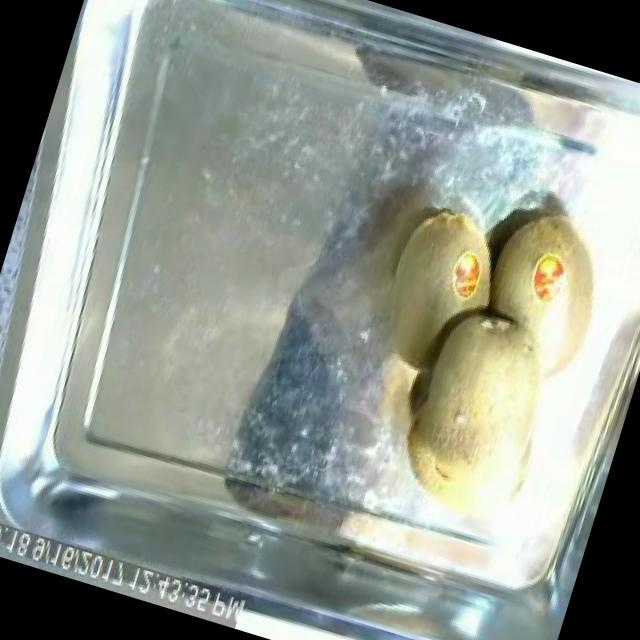Fruit: (372, 283, 584, 542), (354, 185, 522, 394)
